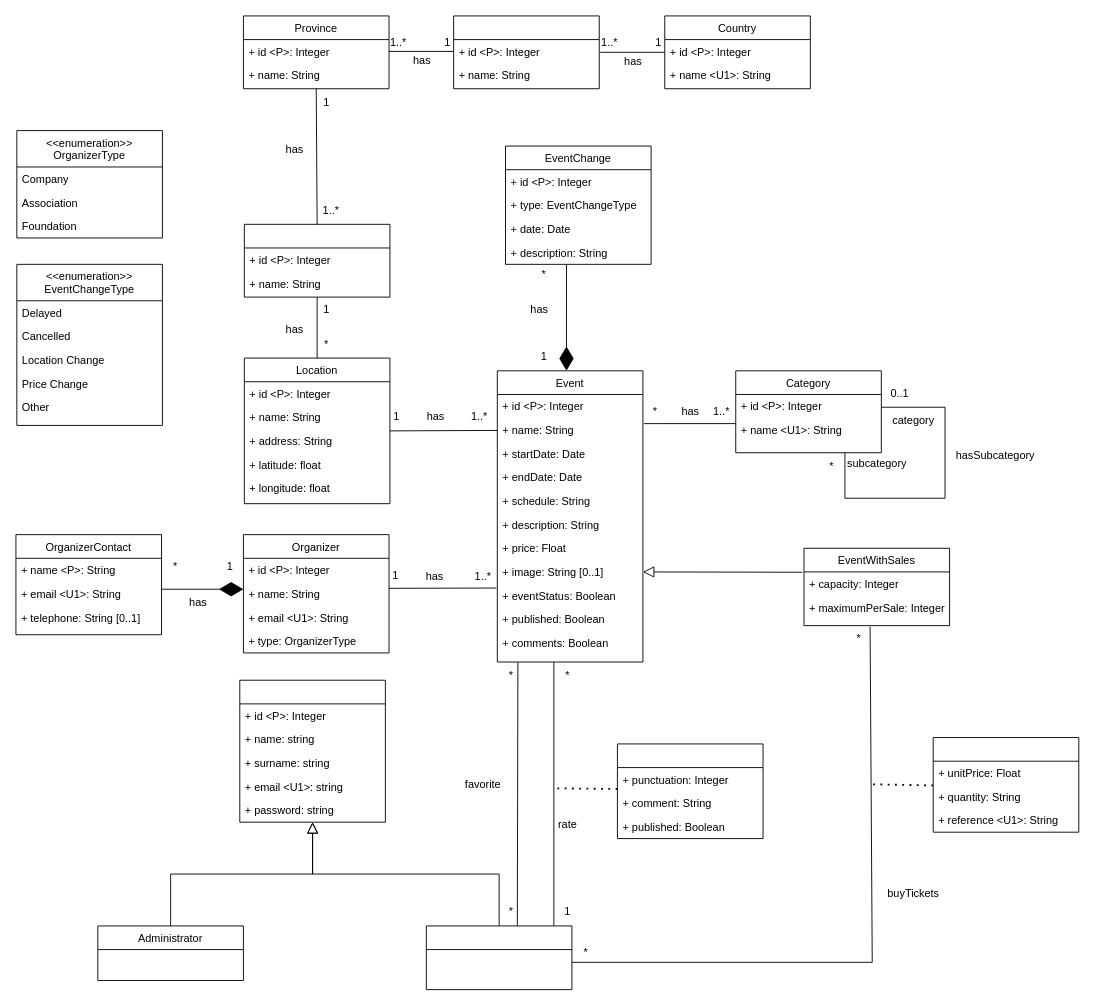
This 1095x1006 diagram has some shape labels left out. Here are the shapes that lost their labels. From the top down, the box of each, then its label:
(453, 15, 599, 89): Region
(243, 223, 390, 297): City
(239, 679, 385, 822): User
(617, 743, 763, 839): Rating
(932, 737, 1079, 832): Transaction
(425, 925, 572, 990): Customer
